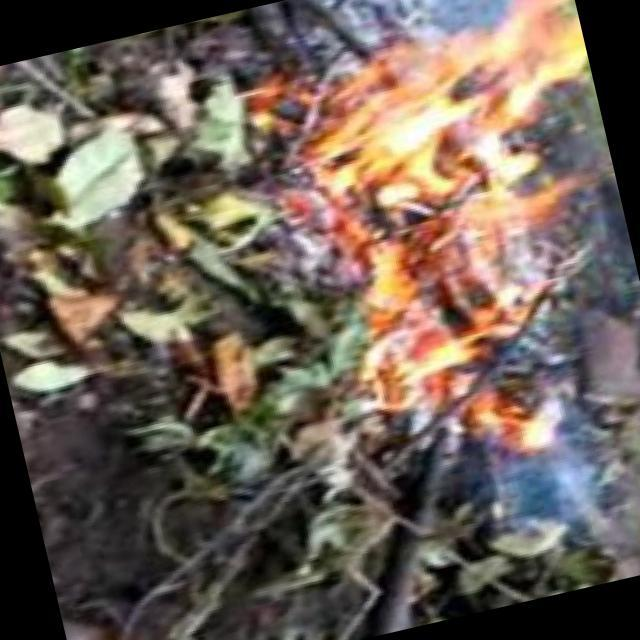Fire: (279, 1, 640, 476)
